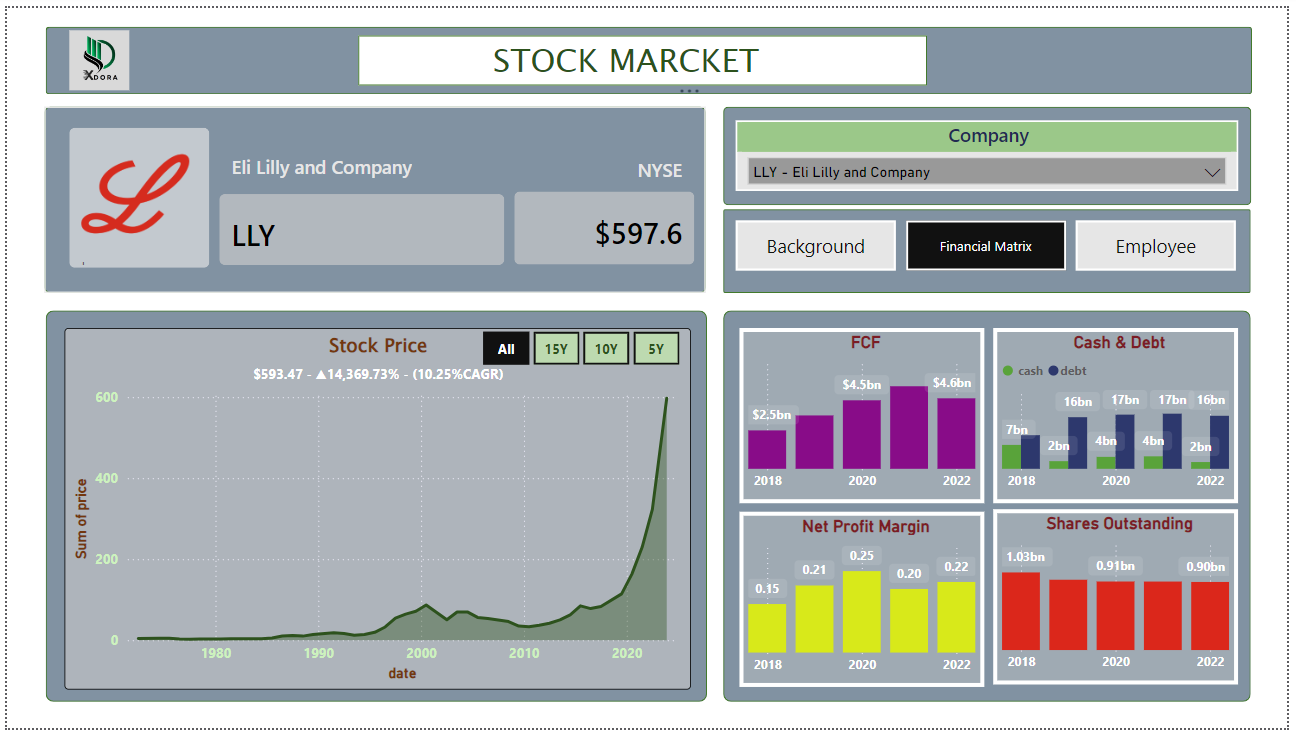

The dashboard page shown, as its layout file describes it:
{"tool":"powerbi","page":{"name":"Stock Price","canvas":[1280,720],"ordinal":0},"visuals":[{"type":"shape","box":[37.5,16.2,1206.2,67.5],"z":0,"group":"g3"},{"type":"shape","box":[716.3,98.5,528,98.5],"z":0,"group":"g4"},{"type":"shape","box":[37.5,98.8,661.2,186.2],"z":0,"group":"g2"},{"type":"group","id":"g1","title":"Stock Price","box":[38.8,302.5,661.2,391.2],"z":0},{"type":"shape","box":[38.8,302.5,661.2,391.2],"z":0,"group":"g1"},{"type":"shape","box":[716.2,302.5,527.5,391.2],"z":0,"group":"g5"},{"type":"cardVisual","fields":{"Data":["profile.'"]},"box":[57.5,16.2,68.8,67.5],"z":1000,"group":"g3"},{"type":"slicer","title":"Company","fields":{"Values":["profile.Ticker & Company Name"]},"box":[728.6,112,502.2,70.2],"z":1000,"group":"g4"},{"type":"cardVisual","fields":{"Data":["profile.'"]},"box":[57.5,115,150,150],"z":1000,"group":"g2"},{"type":"areaChart","title":"Stock Price","fields":{"Y":["Sum(revesta_price_history.price)"],"Category":["revesta_price_history.date"]},"box":[57.6,320,626.2,361.2],"z":1000,"group":"g1"},{"type":"columnChart","title":"FCF","fields":{"Y":["Sum(revesta_stock_financials.fcf)"],"Category":["revesta_stock_financials.year"]},"box":[732.3,320,245,175],"z":1000,"group":"g5"},{"type":"bookmarkNavigator","box":[476.6,323.5,197.5,33.3],"z":1500,"group":"g1"},{"type":"shape","box":[350,25,568.8,50],"z":2000,"group":"g3"},{"type":"group","id":"g2","title":"Price Card","box":[37.5,98.8,661.2,186.2],"z":2000},{"type":"cardVisual","fields":{"Data":["Min(profile.company)"]},"box":[207.5,121.3,283.8,57.5],"z":2000,"group":"g2"},{"type":"columnChart","title":"Net Profit Margin","fields":{"Y":["Sum(revesta_stock_financials.net_profit_margin)"],"Category":["revesta_stock_financials.year"]},"box":[732.4,503.7,245,175],"z":2000,"group":"g5"},{"type":"textbox","box":[333.7,16.2,602.5,78.8],"z":3000,"group":"g3"},{"type":"cardVisual","fields":{"Data":["Min(profile.ticker)"]},"box":[207.5,181.3,295,81.2],"z":3000,"group":"g2"},{"type":"clusteredColumnChart","title":"Cash & Debt","fields":{"Category":["revesta_stock_financials.year"],"Y":["Sum(revesta_stock_financials.cash)","Sum(revesta_stock_financials.debt)"]},"box":[985.8,320,244.9,175],"z":3000,"group":"g5"},{"type":"group","id":"g3","title":"Header","box":[37.5,16.2,1206.2,78.8],"z":4000},{"type":"cardVisual","fields":{"Data":["Sum(profile.price)"]},"box":[503.1,178.2,190.6,83.5],"z":4000,"group":"g2"},{"type":"columnChart","title":"Shares Outstanding","fields":{"Y":["Sum(revesta_stock_financials.shares_outstanding)"],"Category":["revesta_stock_financials.year"]},"box":[986.2,501.3,245,175],"z":4000,"group":"g5"},{"type":"cardVisual","fields":{"Data":["Min(profile.exchange)"]},"box":[525,123.3,167.5,57.5],"z":5000,"group":"g2"},{"type":"shape","box":[716.2,201.2,527.5,83.8],"z":5000},{"type":"bookmarkNavigator","box":[728.8,212.5,502.5,50],"z":6000},{"type":"group","id":"g4","title":"Company","box":[716.3,98.5,528,98.5],"z":7000},{"type":"group","id":"g5","title":"Financial Matrix","box":[716.2,302.5,527.5,391.2],"z":8000}]}

Visuals, with their boxes in screenshot pixels (x1, y1, x2, y2), scaled from the page's 1280x720 canvas onto the 1296x736 screenshot:
shape: (38,17,1259,86)
shape: (725,101,1260,201)
shape: (38,101,707,291)
"Stock Price" group: (39,309,709,709)
shape: (39,309,709,709)
shape: (725,309,1259,709)
cardVisual - profile.': (58,17,128,86)
"Company" slicer: (738,114,1246,186)
cardVisual - profile.': (58,118,210,271)
"Stock Price" areaChart: (58,327,692,696)
"FCF" columnChart: (741,327,990,506)
bookmarkNavigator: (483,331,683,365)
shape: (354,26,930,77)
"Price Card" group: (38,101,707,291)
cardVisual - Min(profile.company): (210,124,497,183)
"Net Profit Margin" columnChart: (742,515,990,694)
textbox: (338,17,948,97)
cardVisual - Min(profile.ticker): (210,185,509,268)
"Cash & Debt" clusteredColumnChart: (998,327,1246,506)
"Header" group: (38,17,1259,97)
cardVisual - Sum(profile.price): (509,182,702,268)
"Shares Outstanding" columnChart: (999,512,1247,691)
cardVisual - Min(profile.exchange): (532,126,701,185)
shape: (725,206,1259,291)
bookmarkNavigator: (738,217,1247,268)
"Company" group: (725,101,1260,201)
"Financial Matrix" group: (725,309,1259,709)
